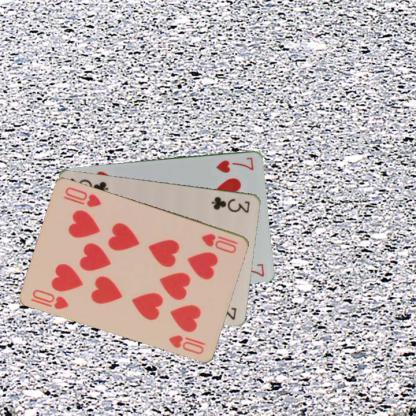10h: (198, 230, 240, 255), (28, 286, 70, 310)
3c: (209, 193, 251, 214)
7h: (214, 154, 255, 174)
